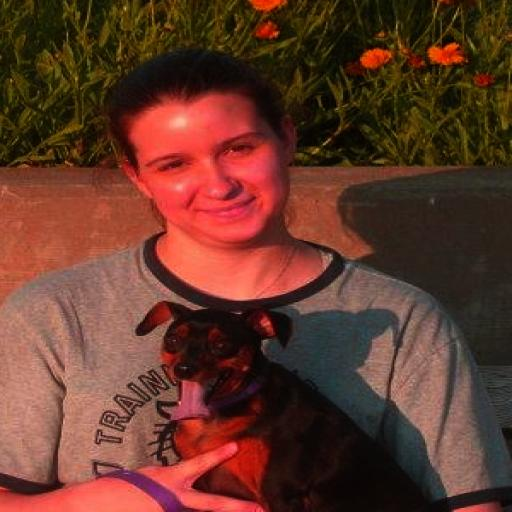dog_face: (130, 299, 300, 411)
